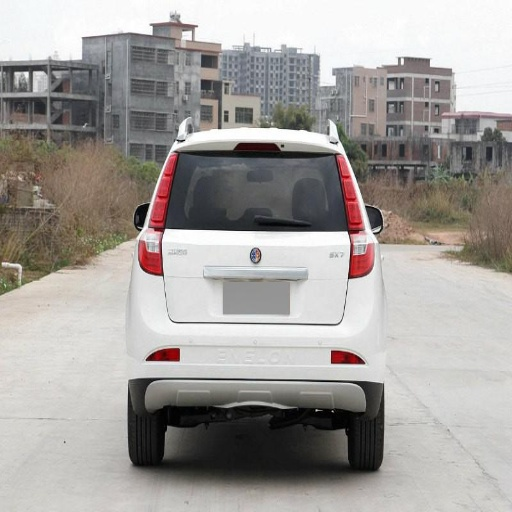back_bumper: (129, 257, 390, 410)
trunk: (151, 228, 348, 327)
